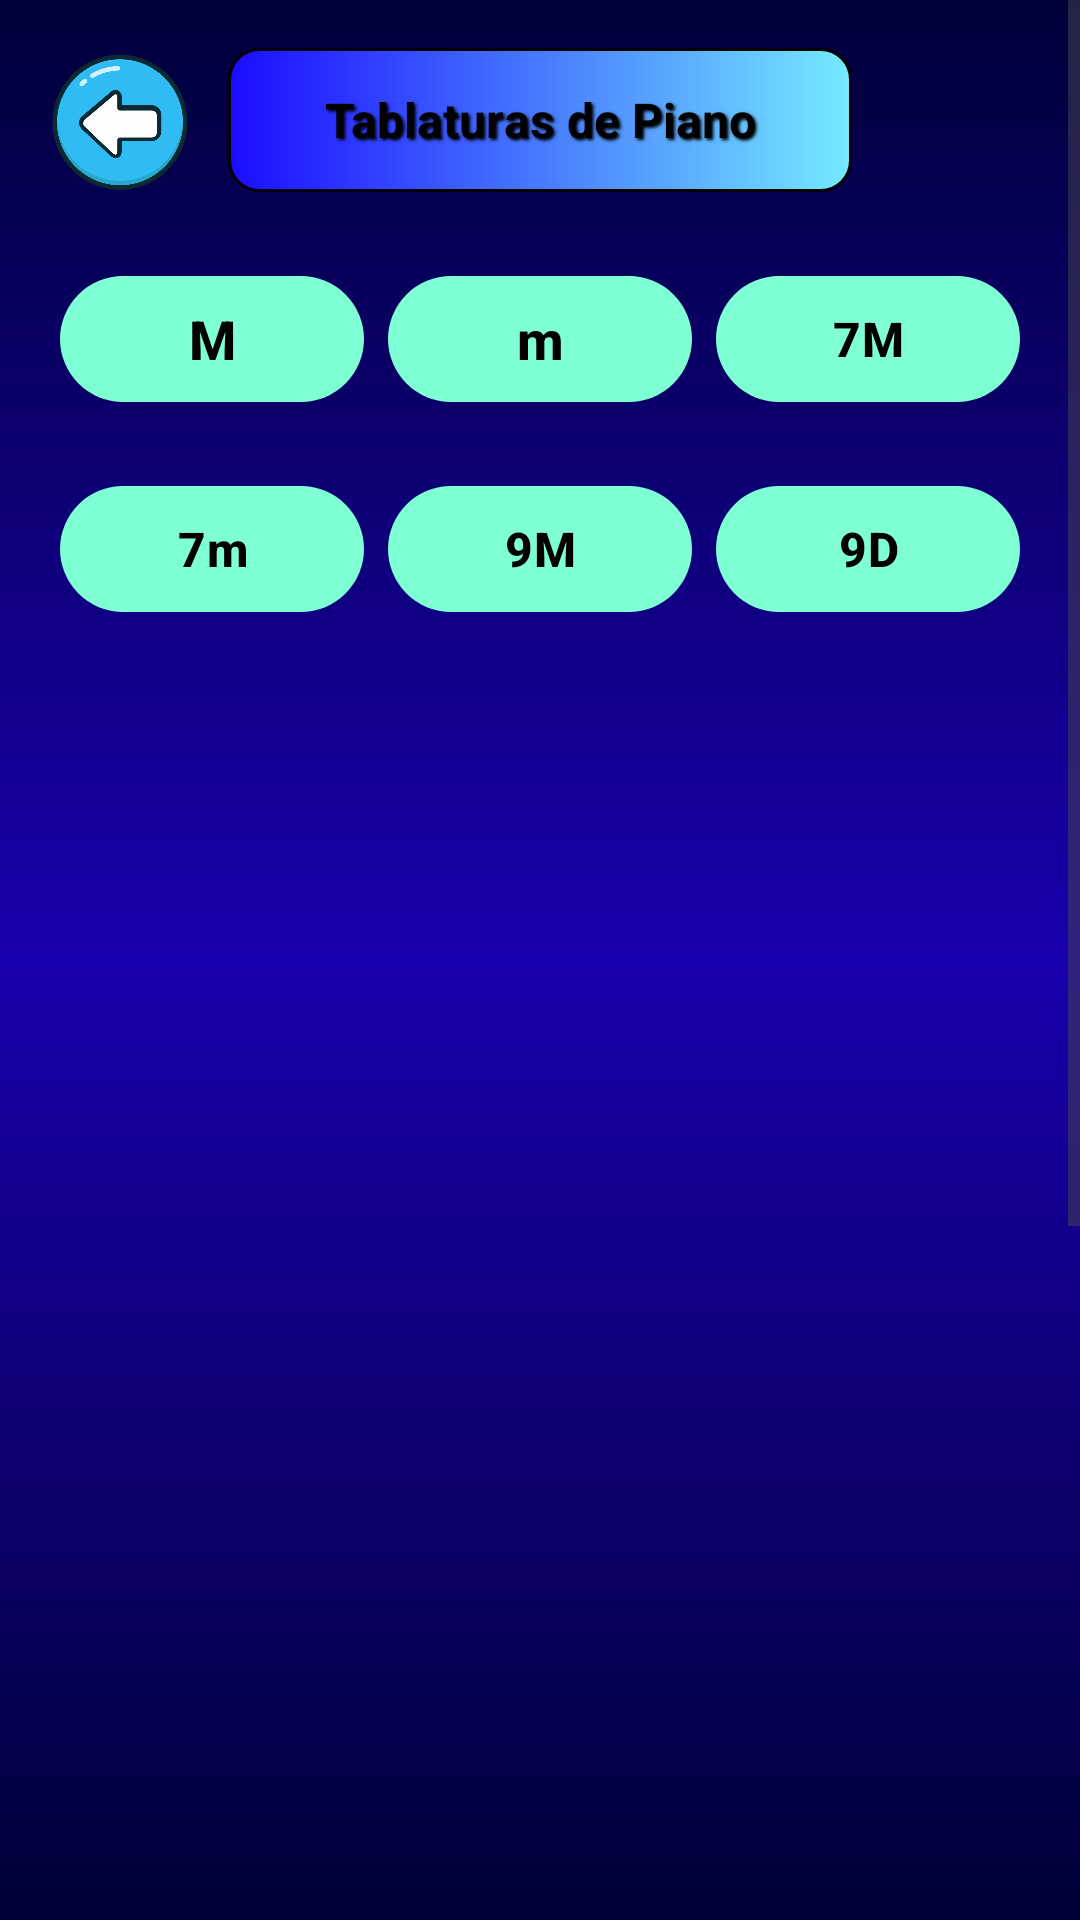

Point at icon controls on the screen. Image size 1080px x 1920px, points as (x=x, y=y).
arrow regresar: (x=120, y=122)
